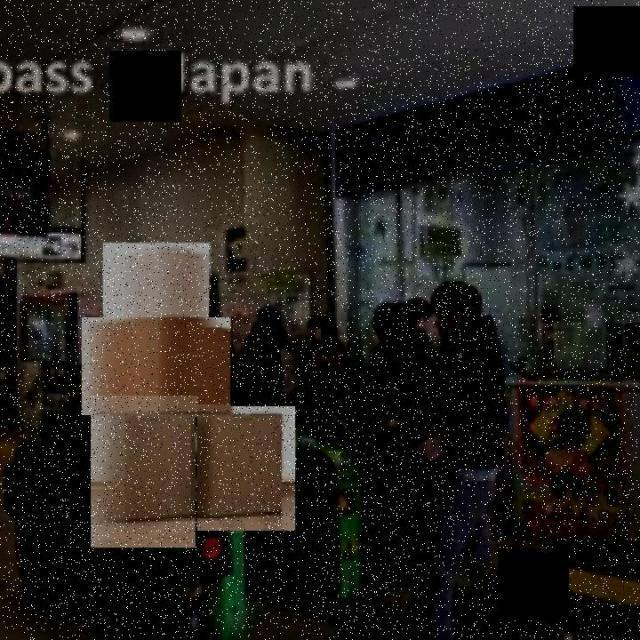box: (90, 396, 198, 552), (81, 318, 233, 420), (196, 406, 298, 534), (102, 242, 212, 333)
